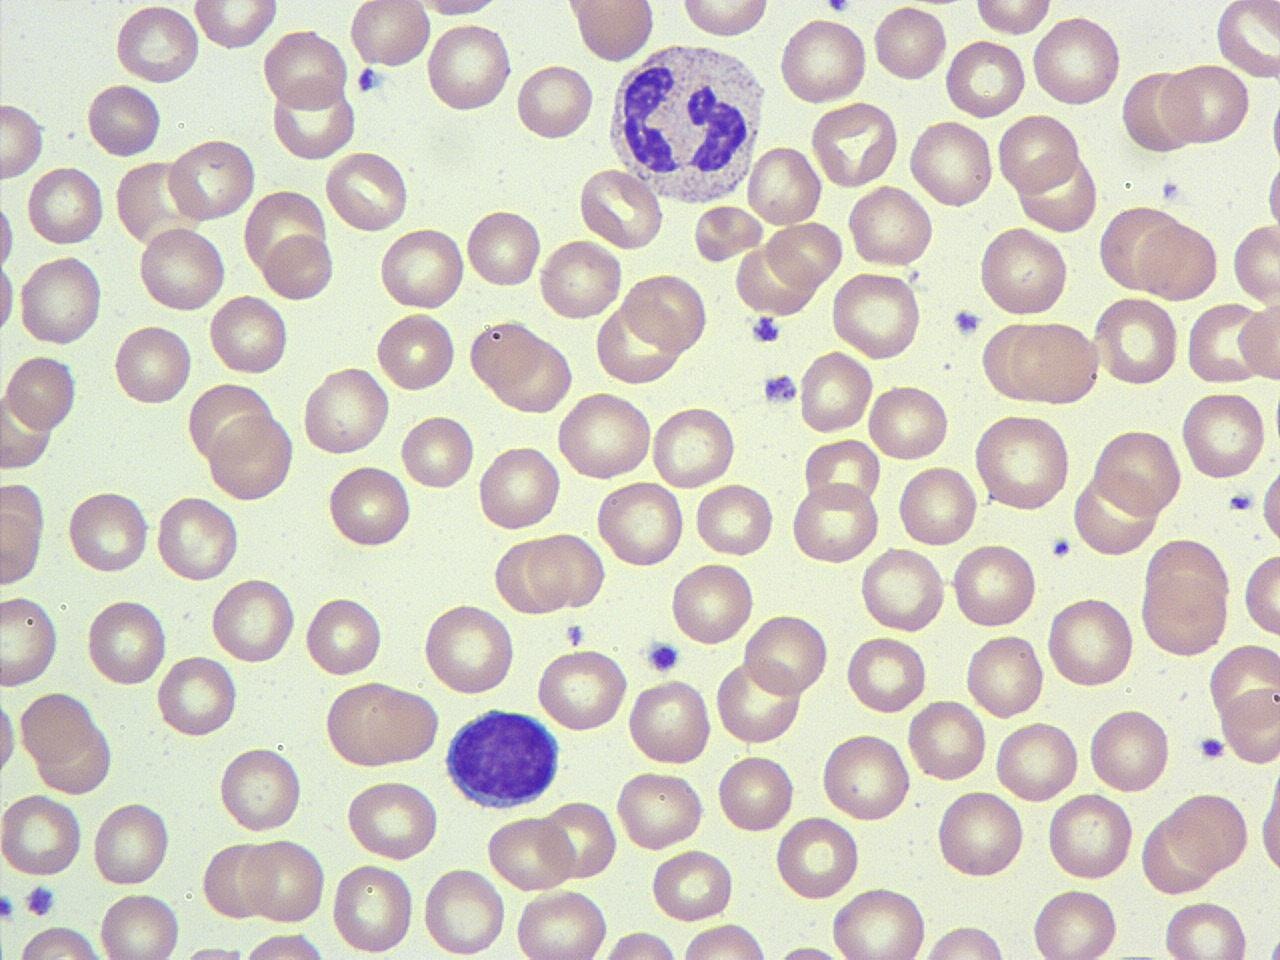Platelets: (760, 370, 801, 408), (644, 638, 683, 676), (22, 881, 56, 919), (750, 312, 780, 346), (950, 306, 982, 338), (1196, 733, 1228, 762), (356, 66, 382, 95), (564, 620, 587, 648), (1227, 491, 1253, 512), (0, 891, 16, 925), (1051, 535, 1073, 559), (824, 0, 852, 16)
RBC: (1138, 536, 1234, 658), (321, 678, 442, 770), (973, 410, 1074, 514), (469, 318, 573, 414), (554, 389, 656, 484), (419, 601, 518, 696), (818, 728, 914, 824), (976, 224, 1072, 319), (1045, 593, 1137, 692), (1090, 425, 1184, 519), (933, 786, 1026, 882), (300, 361, 392, 459), (592, 478, 688, 570), (1031, 13, 1123, 110), (16, 251, 107, 349), (424, 19, 514, 117), (829, 268, 923, 361), (1178, 387, 1270, 482), (1044, 790, 1136, 884), (1091, 293, 1181, 389), (906, 115, 996, 212), (777, 13, 869, 107), (240, 187, 330, 282), (344, 776, 442, 863), (208, 407, 296, 503), (240, 834, 330, 928), (624, 676, 714, 769), (329, 861, 416, 957), (714, 656, 804, 748), (1097, 203, 1187, 294), (164, 135, 258, 224), (216, 742, 304, 836), (535, 646, 631, 733), (1004, 320, 1102, 404), (136, 225, 229, 314), (844, 182, 936, 270), (153, 492, 242, 584), (808, 100, 900, 189), (950, 539, 1039, 631), (208, 576, 298, 665), (420, 865, 507, 958), (84, 596, 169, 690), (860, 545, 948, 634), (574, 165, 666, 252), (475, 442, 562, 531), (65, 486, 152, 576), (1085, 705, 1173, 795), (741, 612, 831, 699), (0, 789, 85, 881), (91, 797, 174, 890), (1156, 64, 1252, 145), (612, 769, 708, 851), (270, 75, 358, 163), (324, 462, 412, 550), (774, 812, 861, 902), (260, 27, 352, 112), (788, 481, 881, 565), (1132, 218, 1222, 304), (906, 694, 990, 786), (963, 630, 1046, 722), (1071, 472, 1159, 559), (374, 308, 462, 394), (668, 560, 754, 648), (155, 650, 240, 740), (828, 884, 928, 960), (538, 237, 626, 323), (378, 225, 466, 311), (1183, 298, 1269, 385), (651, 404, 738, 490), (322, 150, 410, 234), (484, 812, 575, 892), (993, 719, 1079, 804), (624, 271, 712, 355), (1137, 809, 1219, 898), (512, 886, 611, 960), (1166, 792, 1252, 876), (943, 35, 1028, 121), (996, 111, 1082, 195), (113, 2, 201, 85), (112, 321, 194, 409), (844, 632, 928, 717), (207, 291, 289, 378), (303, 592, 385, 680), (464, 204, 544, 292), (895, 462, 978, 548), (865, 383, 952, 463), (798, 346, 876, 436), (1028, 884, 1120, 960), (745, 142, 824, 229), (648, 845, 736, 924), (1121, 66, 1197, 155), (514, 61, 596, 144), (25, 164, 108, 246), (541, 796, 619, 882), (84, 79, 164, 161), (1207, 640, 1280, 732), (693, 480, 776, 560), (716, 752, 794, 836), (399, 409, 477, 494), (526, 530, 606, 612), (3, 351, 80, 435), (871, 3, 948, 84), (200, 836, 272, 922), (493, 535, 568, 617), (95, 889, 181, 960), (0, 593, 62, 691), (347, 0, 432, 71), (798, 436, 881, 508), (568, 0, 658, 67), (764, 217, 844, 290), (1160, 899, 1252, 960), (0, 480, 48, 591), (1213, 0, 1279, 82), (262, 229, 336, 302), (1219, 686, 1279, 768), (191, 0, 280, 52), (690, 201, 762, 263), (1229, 221, 1279, 306), (1232, 302, 1280, 384), (676, 0, 774, 40), (0, 101, 47, 183), (674, 922, 774, 960), (1240, 550, 1280, 638), (919, 923, 1013, 960), (14, 924, 103, 960), (972, 1, 1056, 38), (1255, 764, 1279, 886), (599, 928, 686, 960), (239, 930, 330, 960), (1258, 449, 1280, 559)
WBC: (602, 39, 770, 209), (440, 702, 566, 812)
